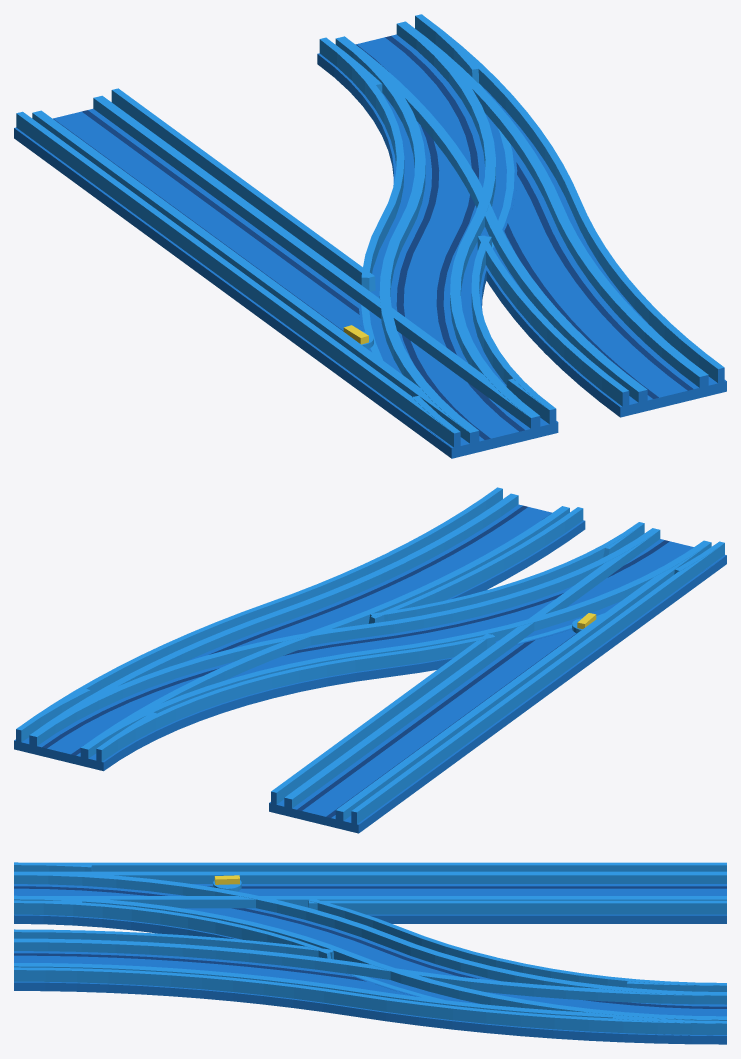
Rendered from Track_Double_Wide_Right.fbx.
3 renders of one model, top to bottom at view 1: azimuth 30°, elevation 25°; view 2: azimuth 150°, elevation 25°; view 3: azimuth 270°, elevation 25°, orthographic. The views are drawn at different scales.
Visible parts, largest first — view 1: Bed stay, Bed cross, Bed move; view 2: Bed cross, Bed stay, Bed move; view 3: Bed move, Bed stay, Bed cross.
Boxes of the visible parts, <box> form: Bed stay: <box>14,88,556,458</box>; Bed cross: <box>317,14,558,448</box>; Bed move: <box>336,20,726,417</box>; Bed cross: <box>14,522,726,770</box>; Bed stay: <box>269,523,726,833</box>; Bed move: <box>14,487,585,771</box>; Bed move: <box>14,929,726,1044</box>; Bed stay: <box>35,862,726,923</box>; Bed cross: <box>14,862,726,1035</box>.
Bounding box in the file's own units: 406 × 23.41 × 750.
